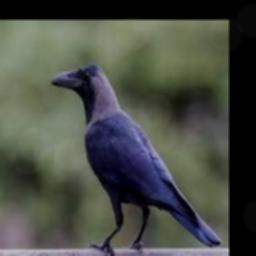Crow: (52, 64, 223, 256)
